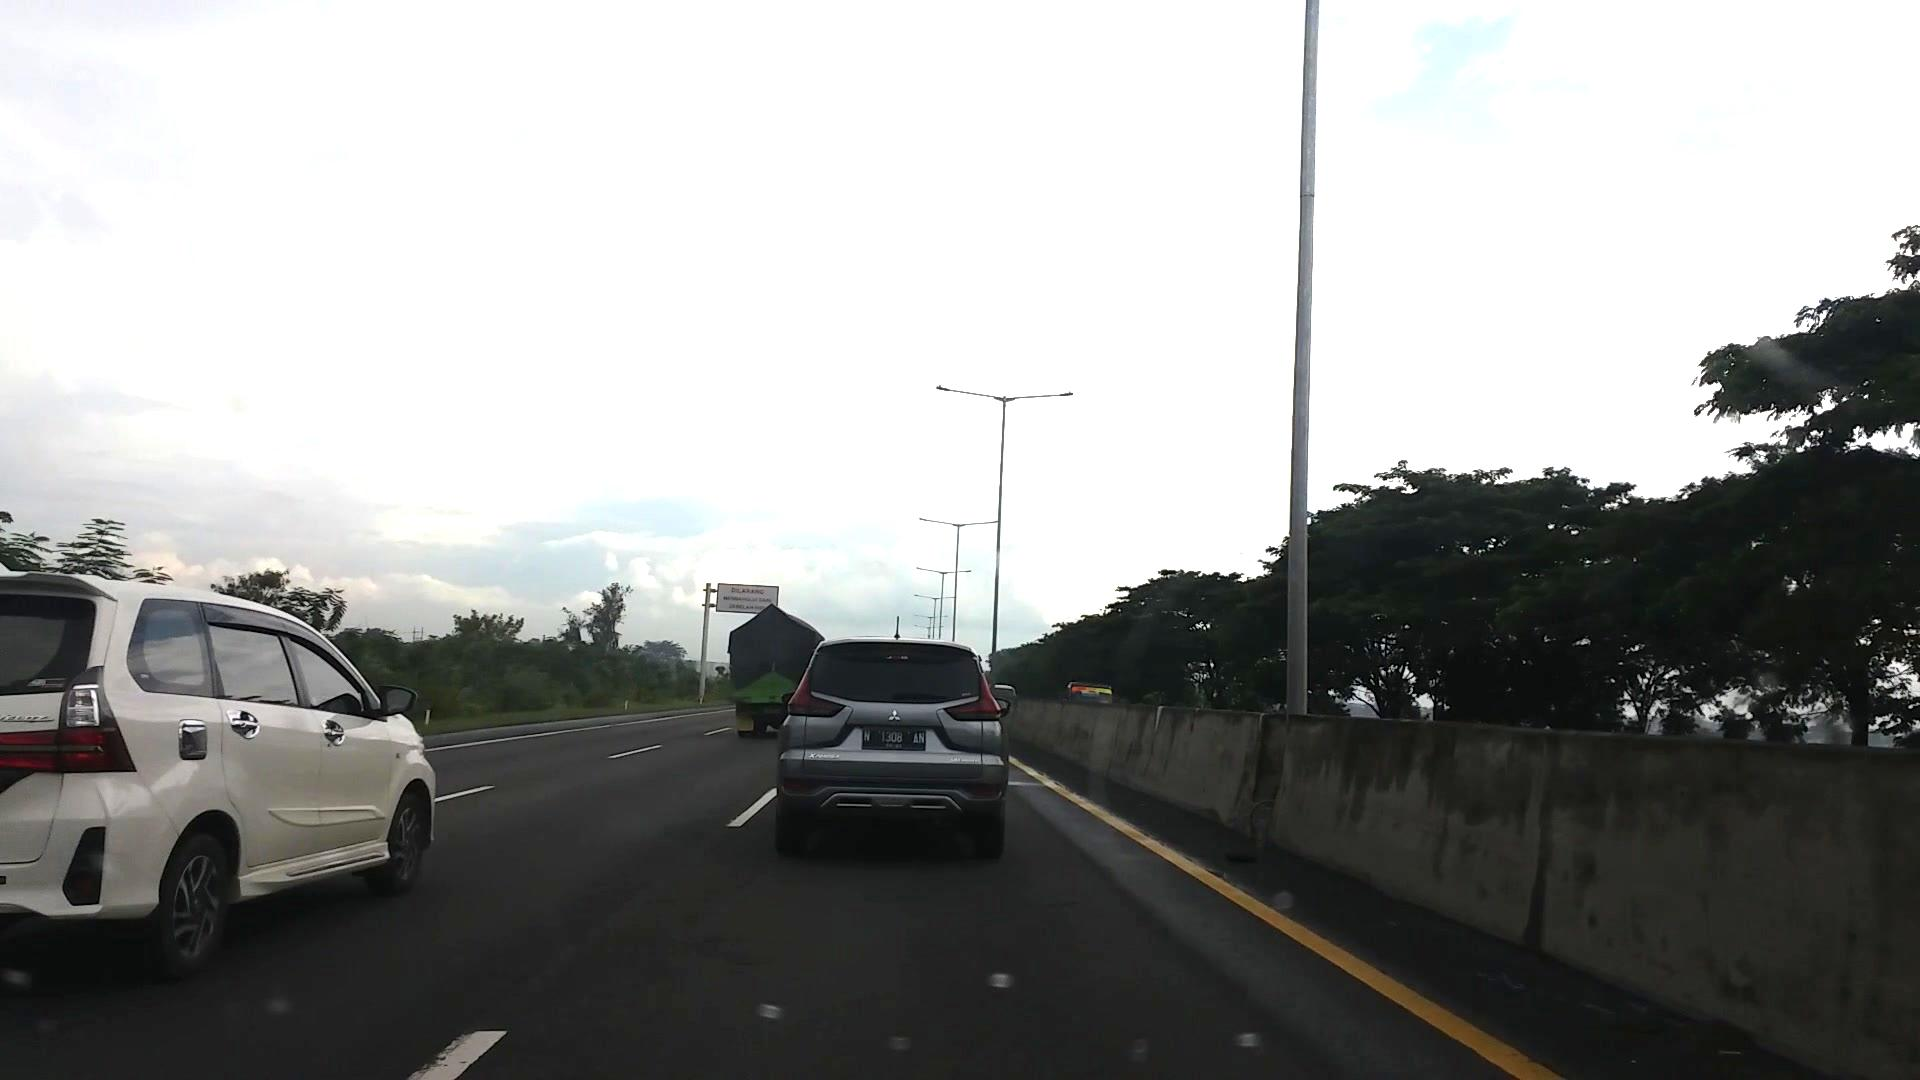plate_positive: (862, 727, 926, 752)
